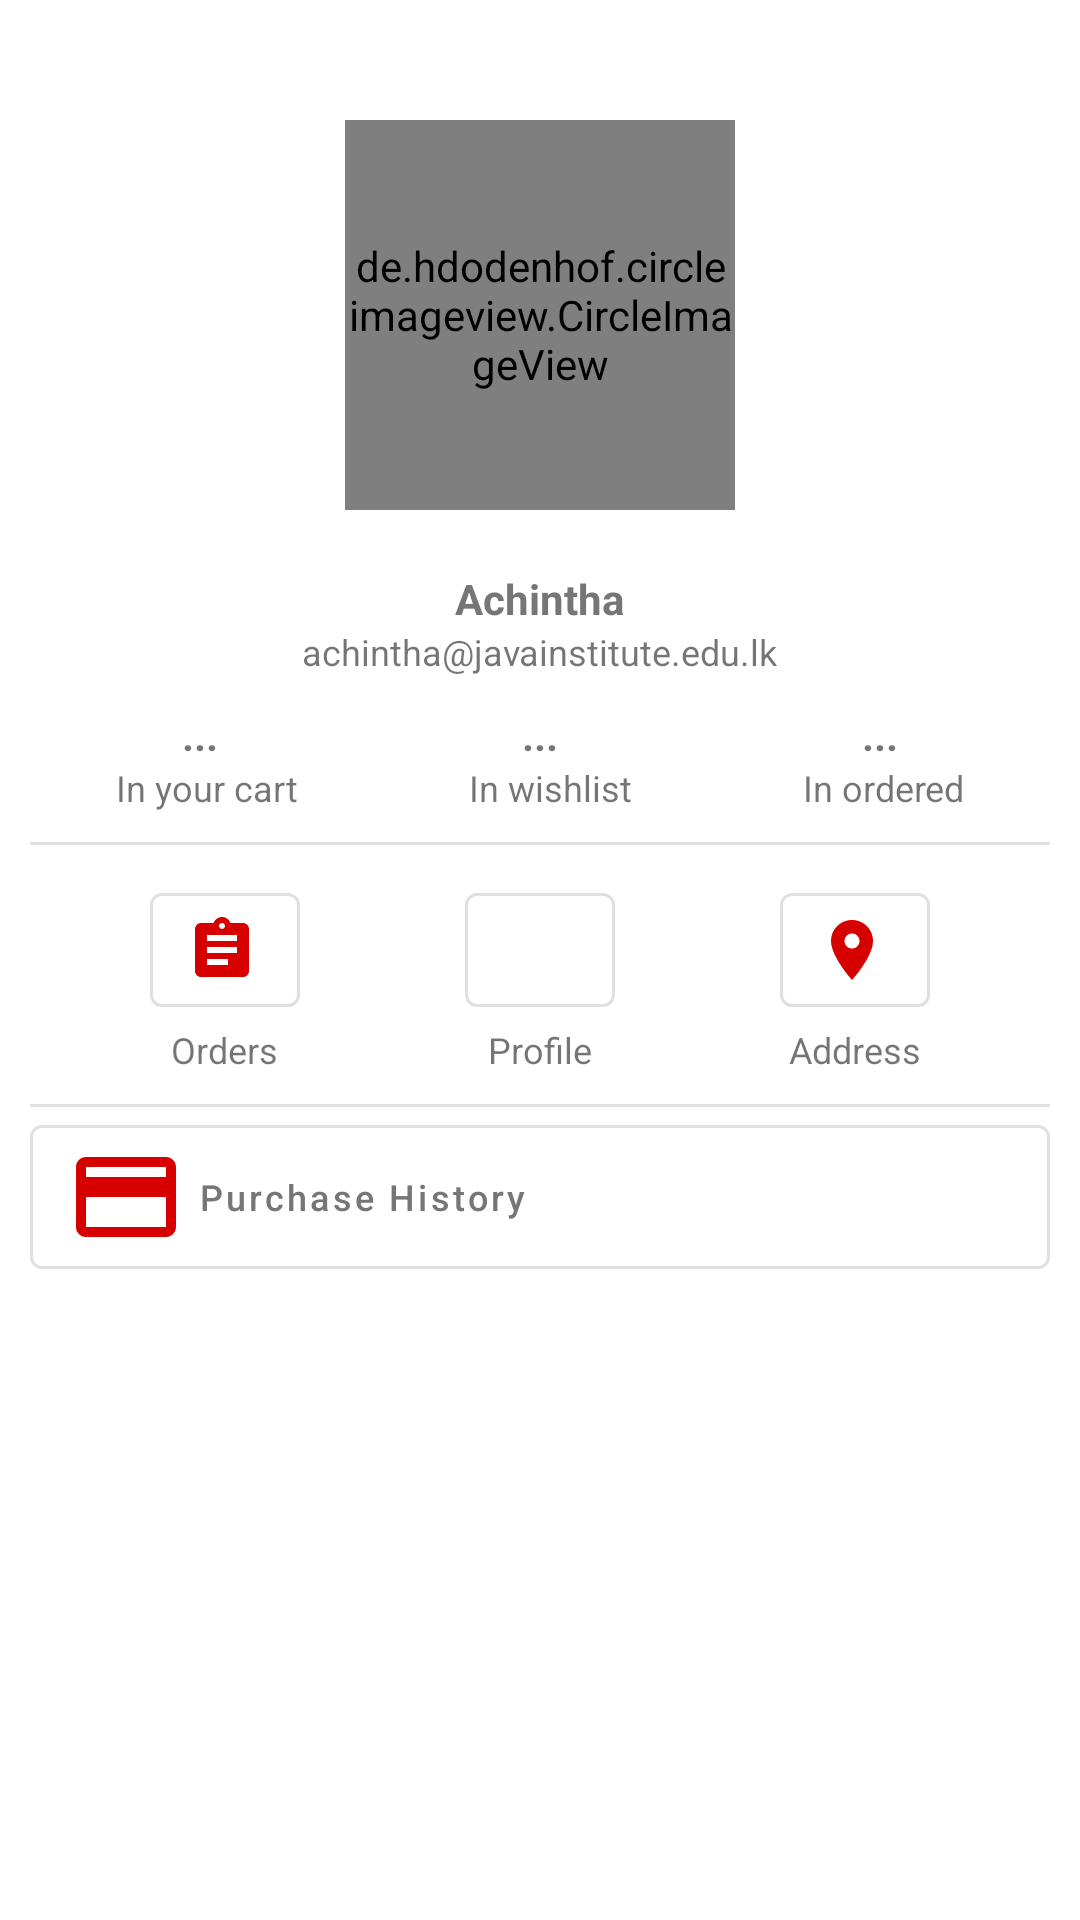

Point at icon controls on the screen. Image size 1080×1920, points as [x,y].
assignment: [225,950]
location on: [855,950]
